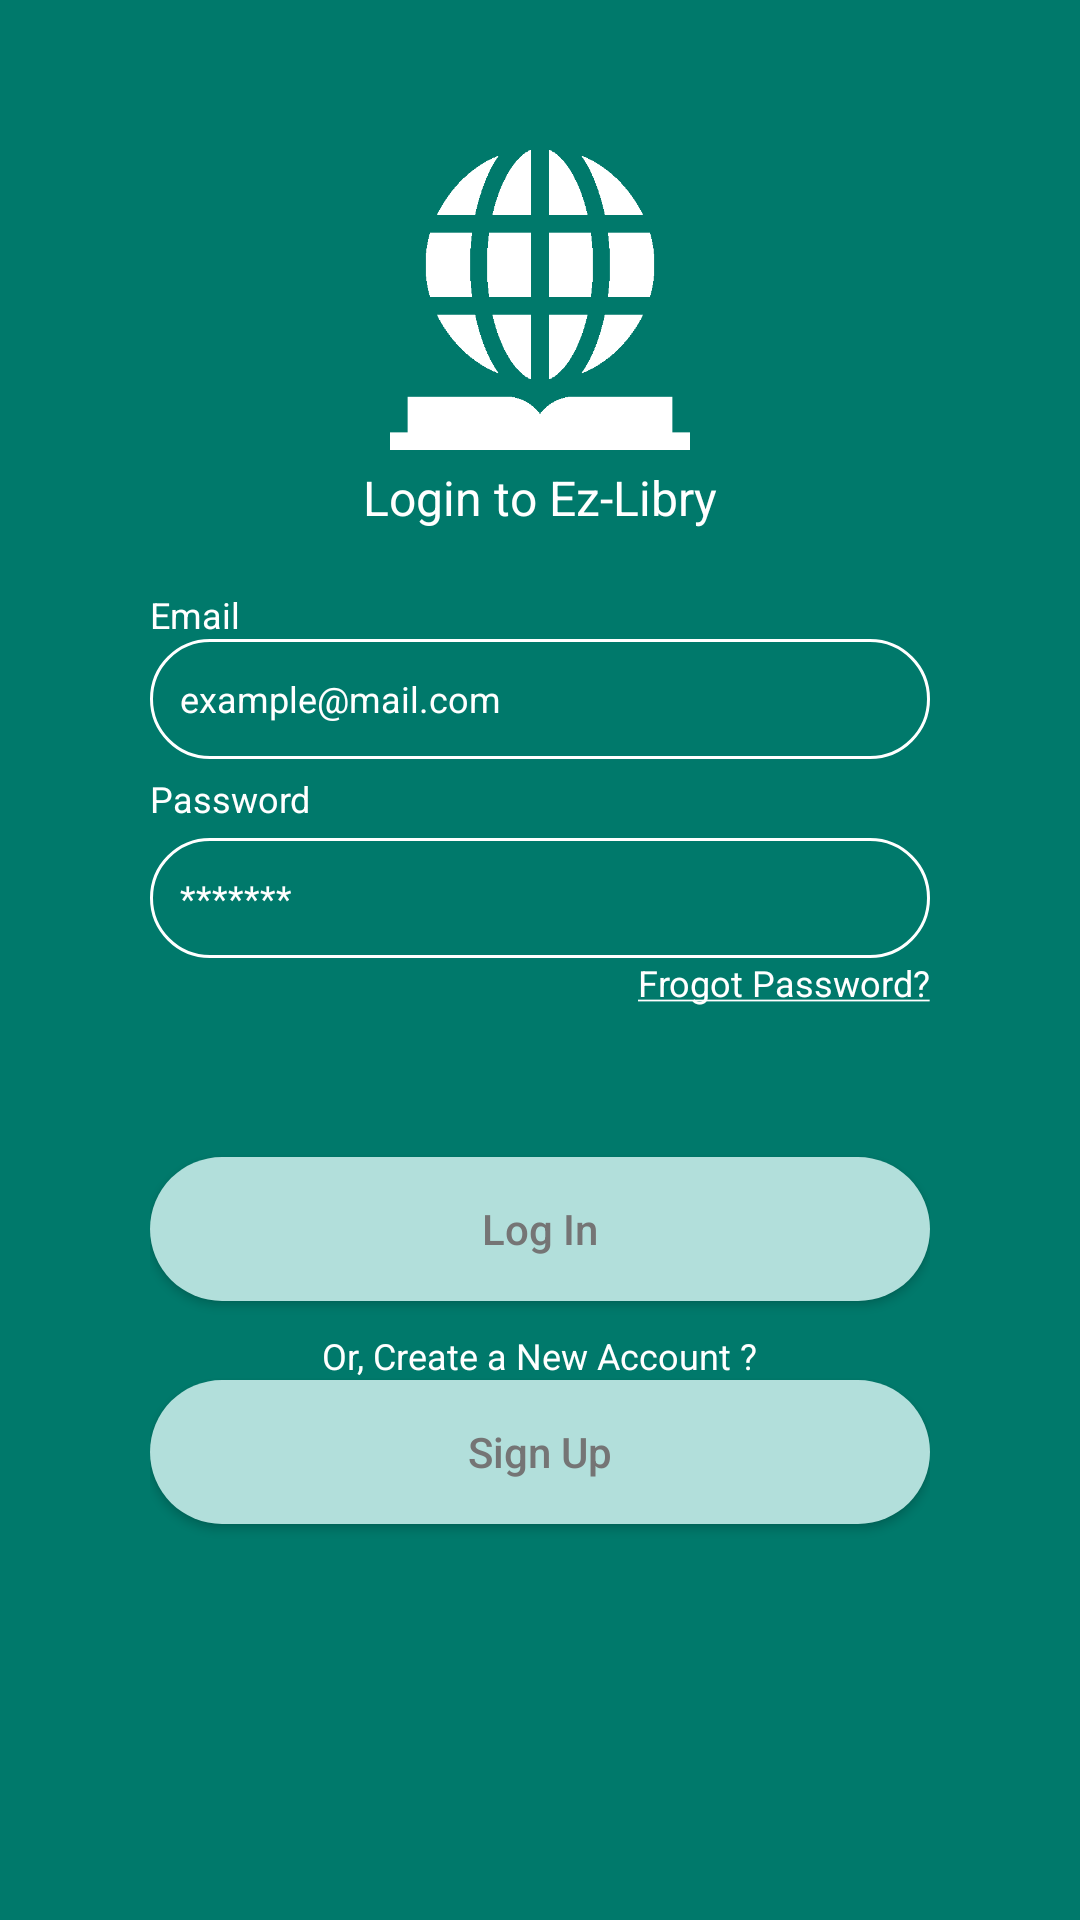

Icon bounding boxes for this 1080 x 1920 phone screenshot, format (x1, y1, x2, y2):
books: (390, 150, 690, 450)
